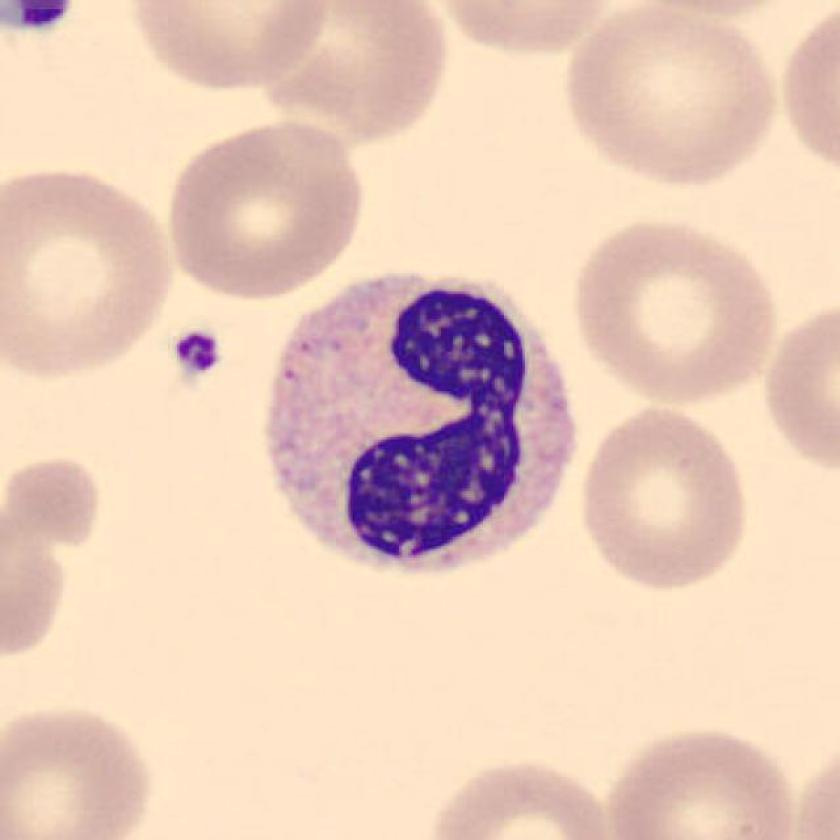neutrophil: (266, 278, 575, 572)
